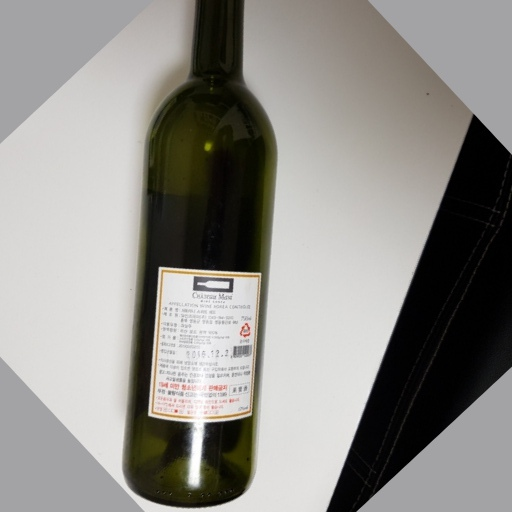Glass_2: (118, 1, 282, 510)
